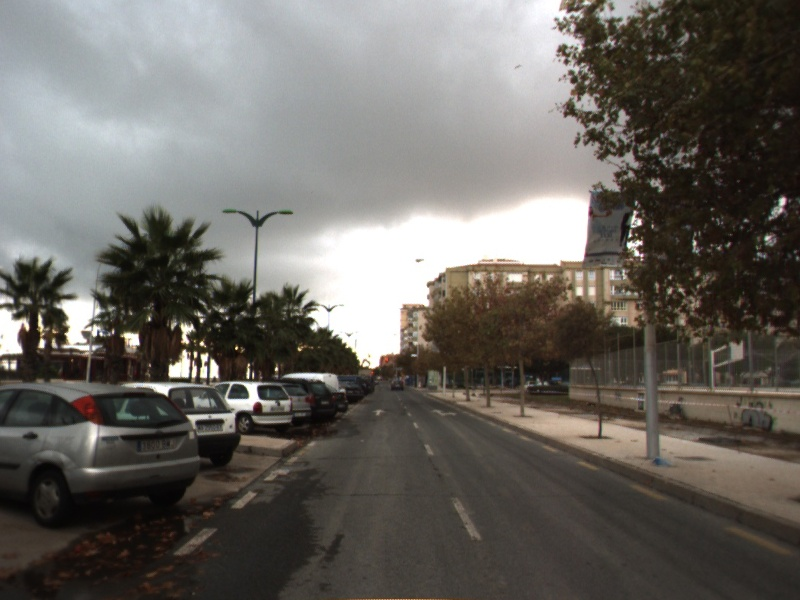STRAIGHT: (370, 407, 389, 418)
STRAIGHT_RIGHT: (430, 407, 459, 418)
